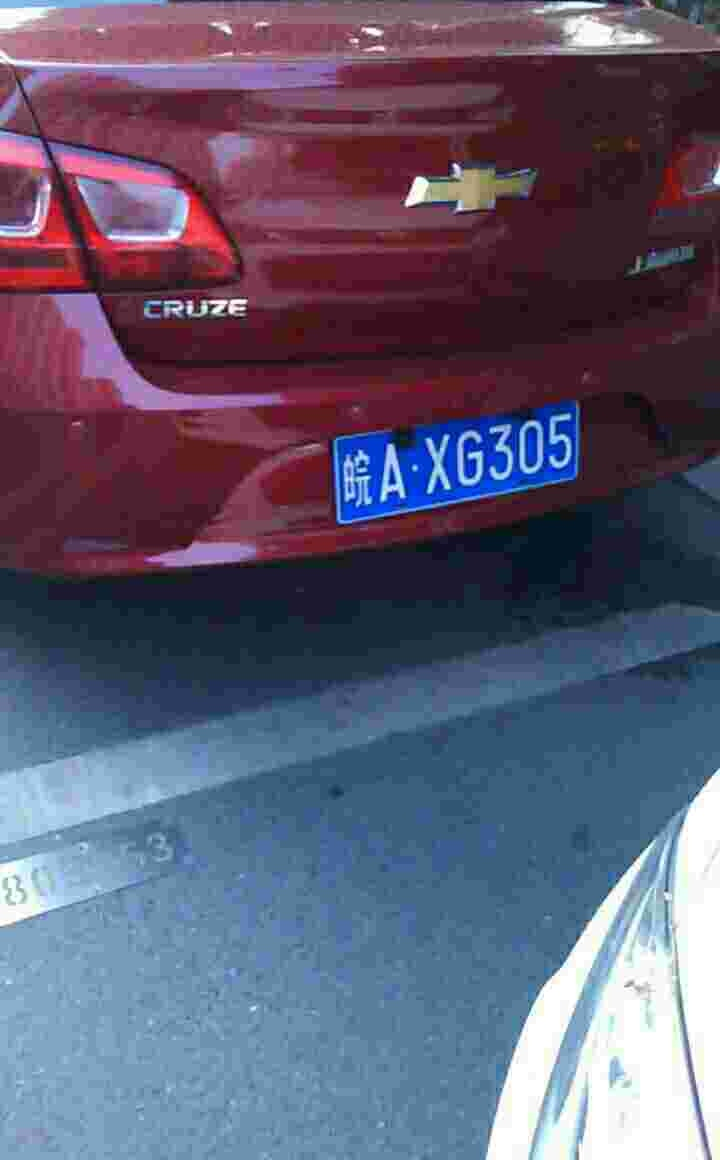license_plate: (326, 393, 583, 520)
